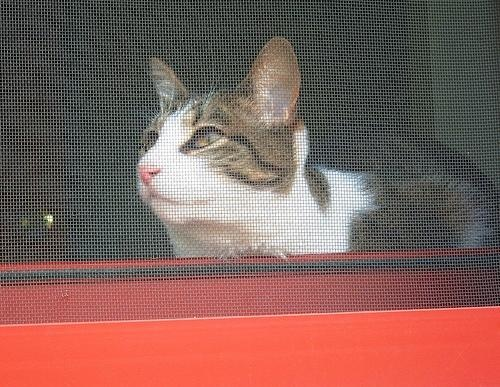cat: (137, 36, 500, 261)
